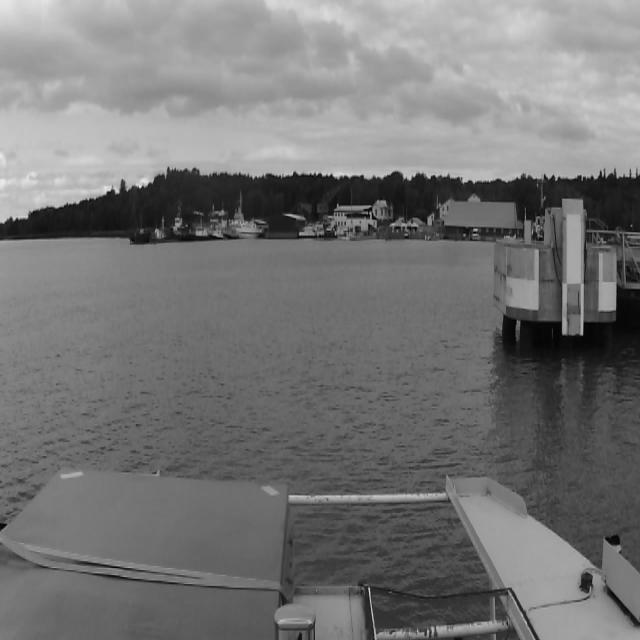ship: (223, 207, 277, 245), (154, 213, 192, 247), (193, 212, 229, 244), (127, 207, 151, 246), (472, 227, 479, 241)
